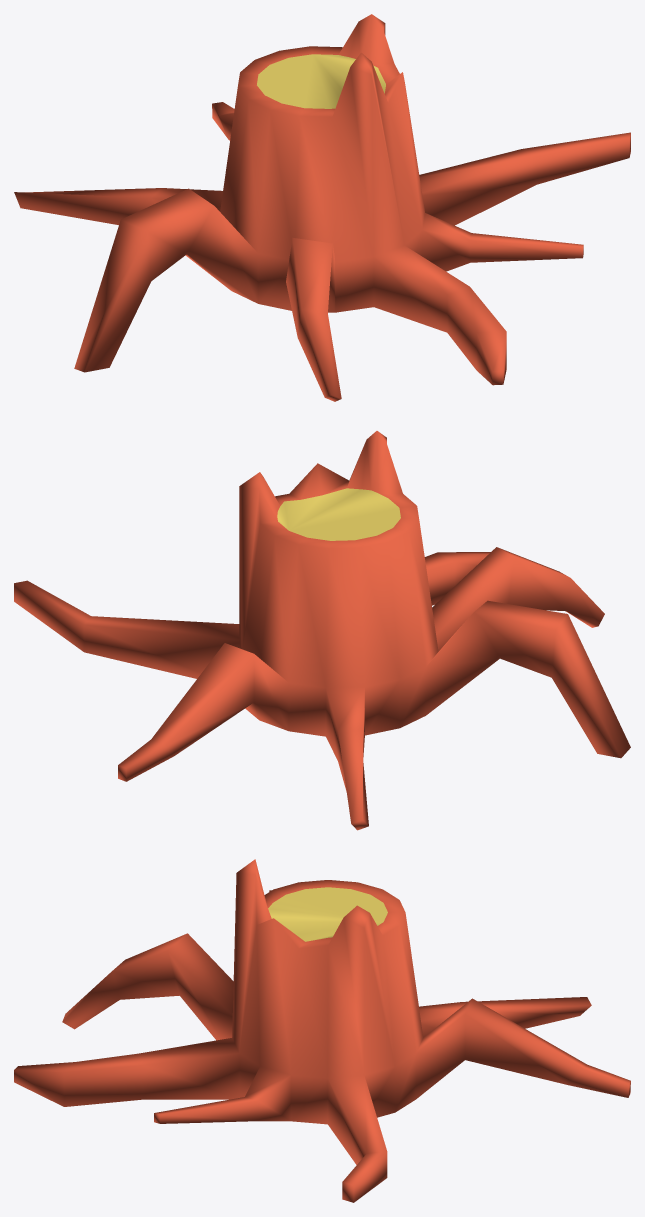
The model's file is BrokenTree.fbx.
3 renders of one model, top to bottom at view 1: azimuth 30°, elevation 25°; view 2: azimuth 150°, elevation 25°; view 3: azimuth 270°, elevation 25°, orthographic. The views are drawn at different scales.
Visible parts, largest first — view 1: Цилиндр.001; view 2: Цилиндр.001; view 3: Цилиндр.001.
Boxes of the visible parts, bbox=[...] form: Цилиндр.001: bbox=[14, 14, 630, 401]; Цилиндр.001: bbox=[14, 431, 630, 830]; Цилиндр.001: bbox=[14, 859, 630, 1202].
Bounding box in the file's own units: 227 × 96.2 × 222.
